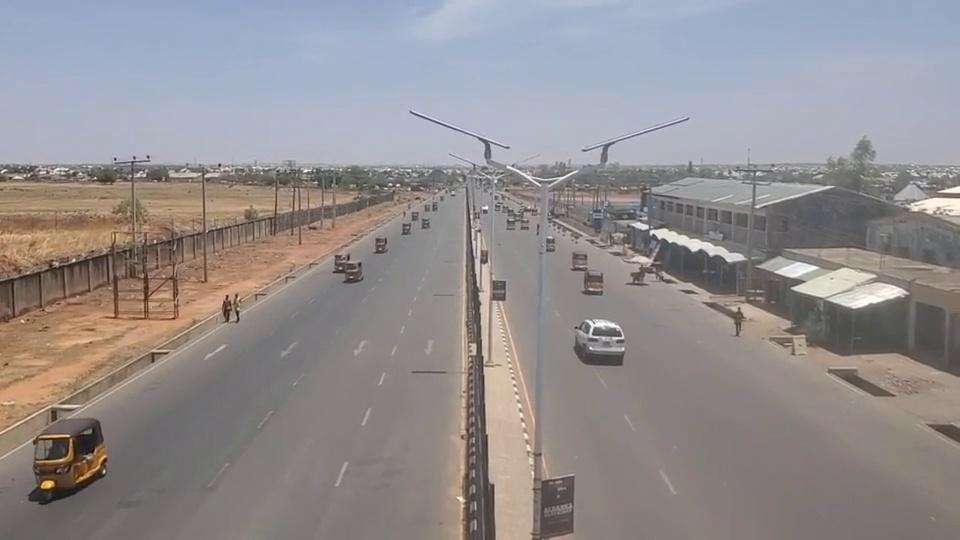car: (573, 318, 625, 363)
keke: (31, 416, 107, 494), (342, 260, 362, 282)
